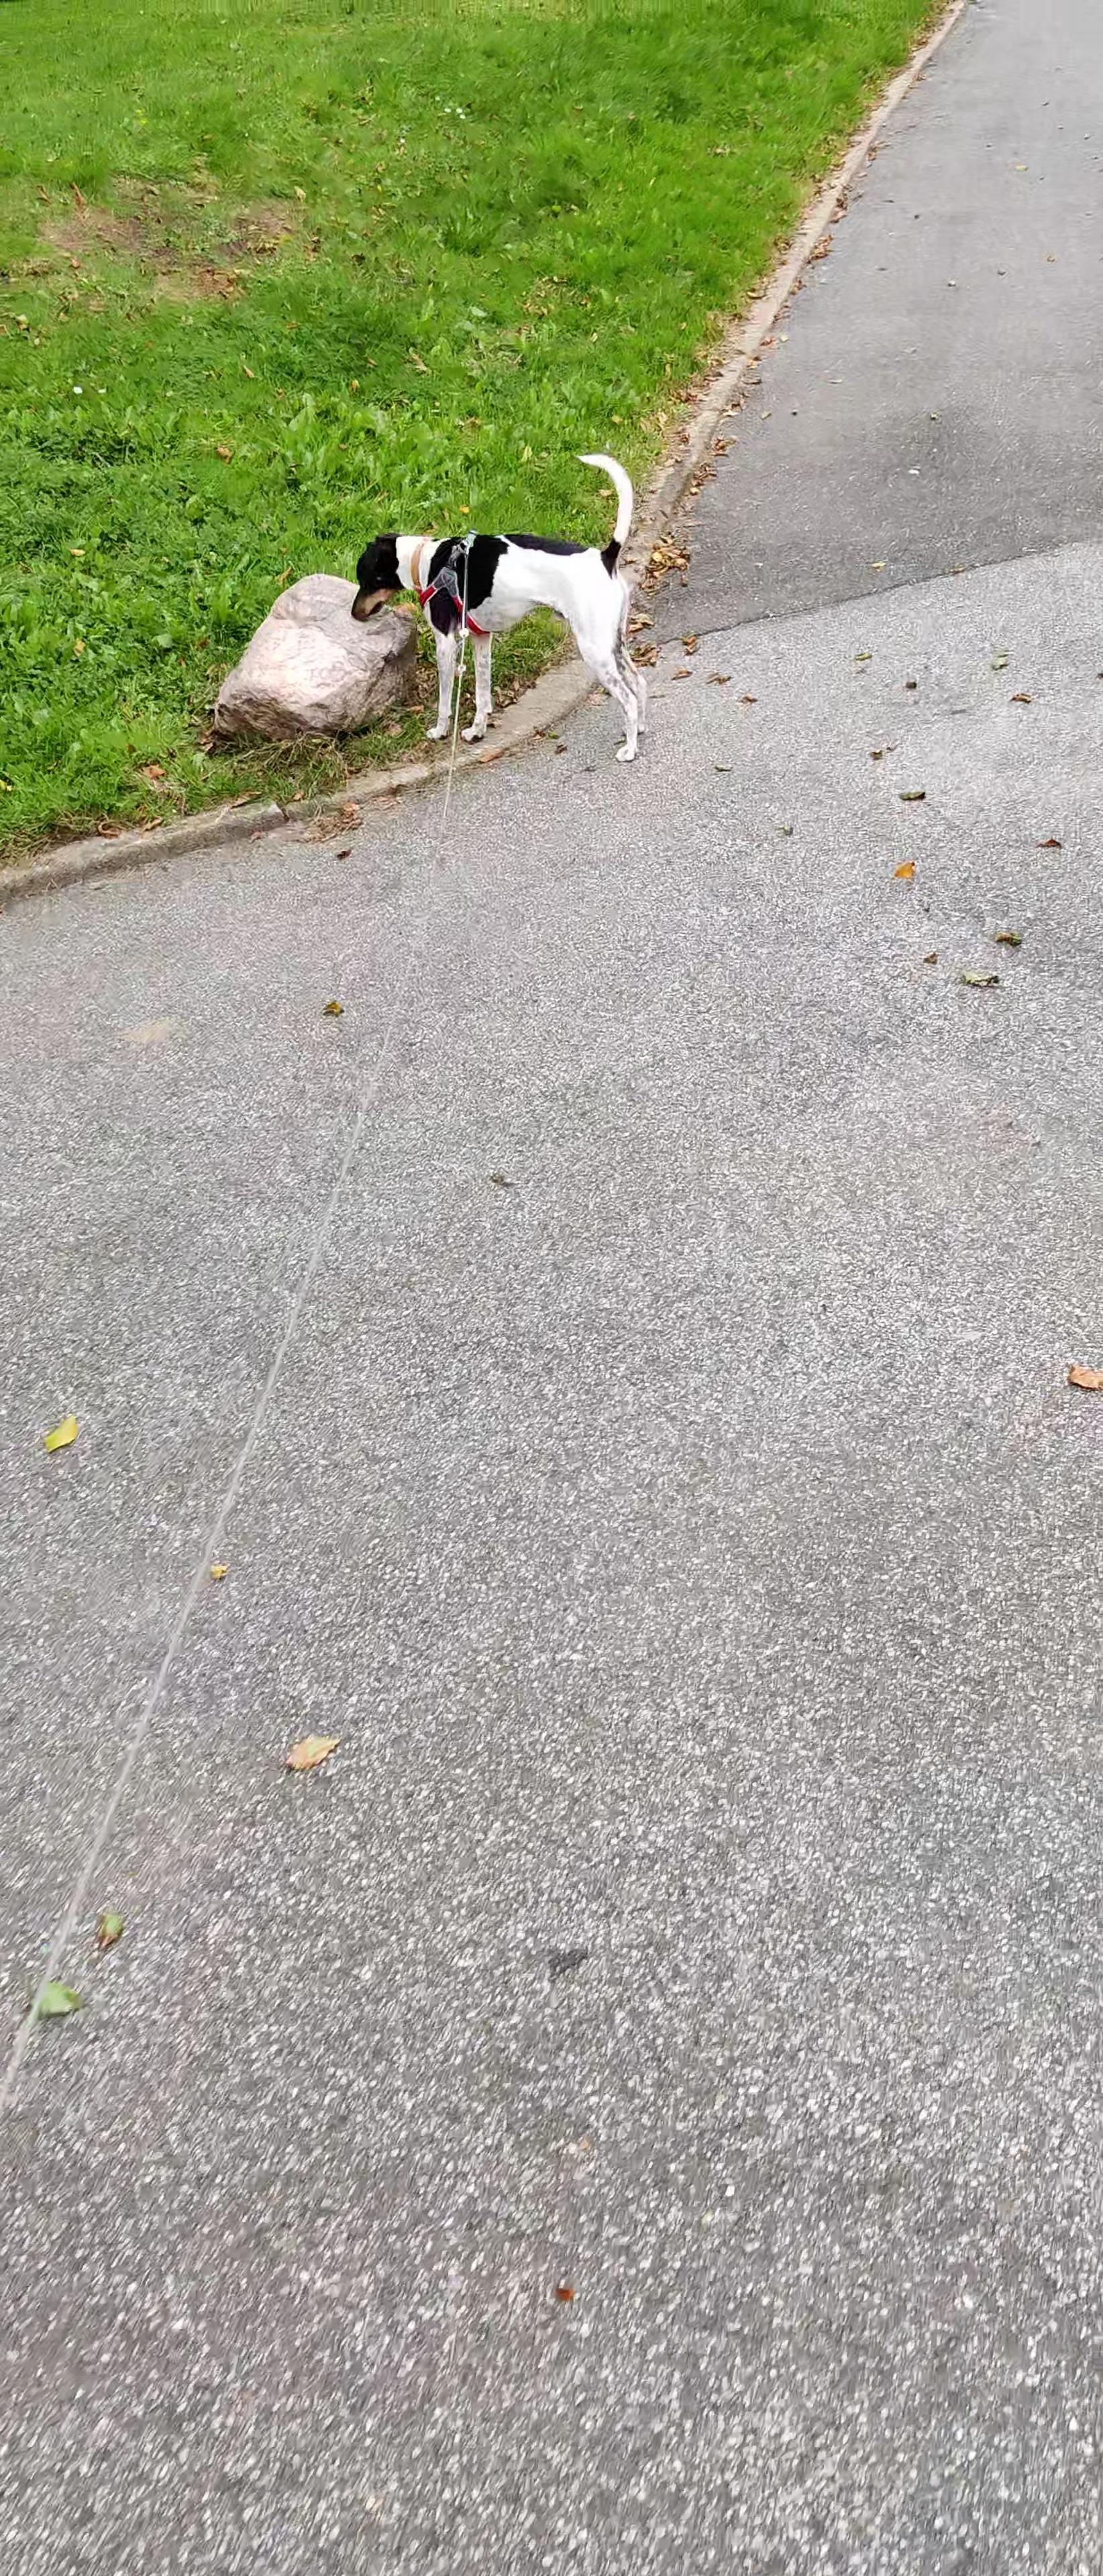Dog: (350, 448, 649, 766)
